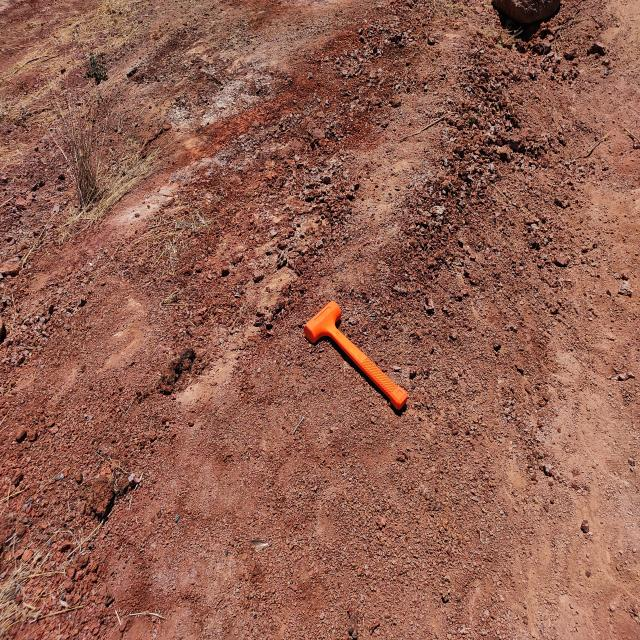Orange_hammer: (302, 299, 408, 412)
